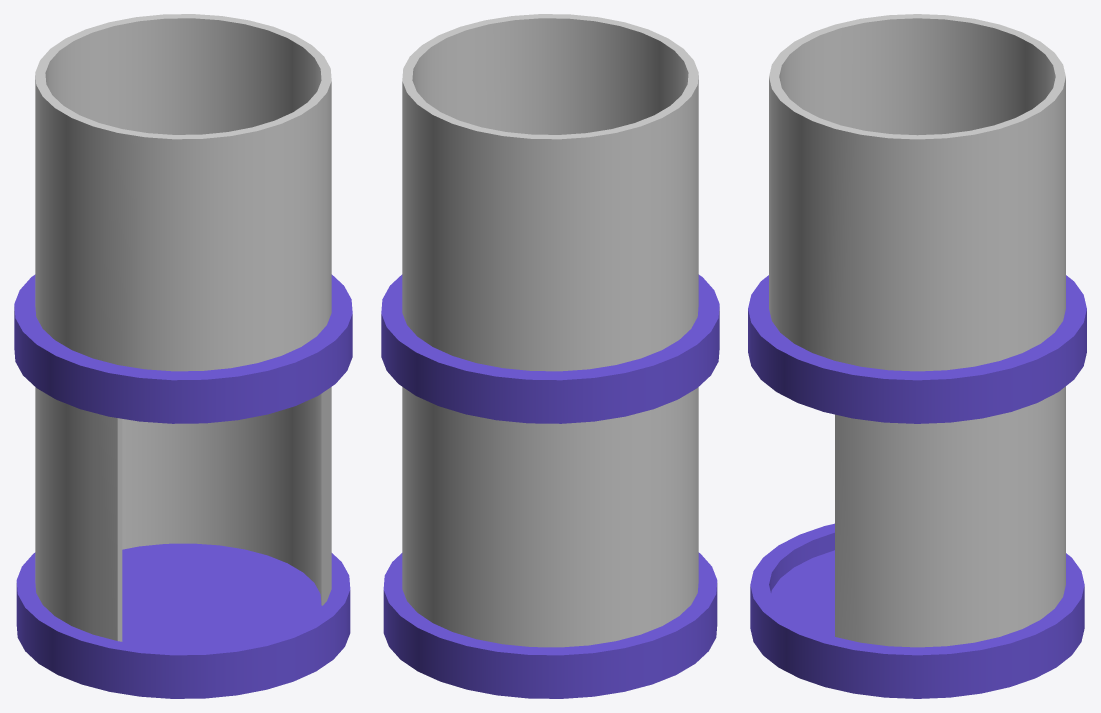
Rendered from PneumaticTube.glb.
3 renders of one model, left to right at view 1: azimuth 30°, elevation 25°; view 2: azimuth 150°, elevation 25°; view 3: azimuth 270°, elevation 25°, orthographic.
Parts seen in each view (by area): view 1: Tube, Rings; view 2: Tube, Rings; view 3: Tube, Rings.
Boxes of the visible parts, x1=… form: Tube: x1=35, y1=14, x2=331, y2=641; Rings: x1=14, y1=274, x2=352, y2=698; Tube: x1=402, y1=14, x2=698, y2=647; Rings: x1=381, y1=274, x2=719, y2=698; Tube: x1=769, y1=14, x2=1065, y2=647; Rings: x1=748, y1=275, x2=1086, y2=698.
Bounding box in the file's own units: 3.26 × 5.86 × 3.26.
